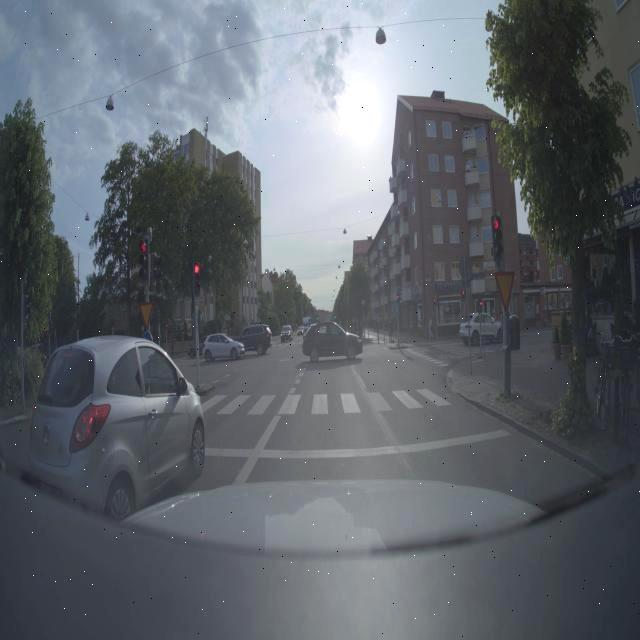Red: (478, 204, 518, 278), (126, 228, 157, 300), (184, 256, 213, 315)
